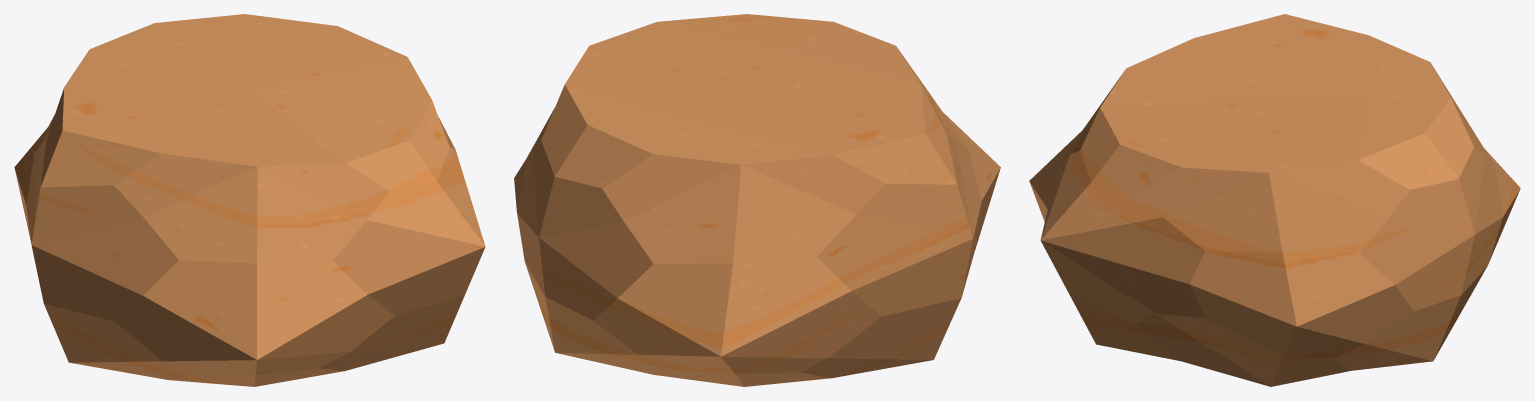
File: rock1.fbx
3 views of the same model, side by side, from view 1: azimuth 30°, elevation 25°; view 2: azimuth 150°, elevation 25°; view 3: azimuth 270°, elevation 25° (orthographic). The views are drawn at different scales.
Parts seen in each view (by area): view 1: Plane; view 2: Plane; view 3: Plane.
Boxes of the visible parts, <box> form: Plane: <box>14,14,485,386</box>; Plane: <box>514,14,1000,386</box>; Plane: <box>1029,14,1520,386</box>.
Bounding box in the file's own units: 201 × 100 × 207.
1 material, 1 textured.
